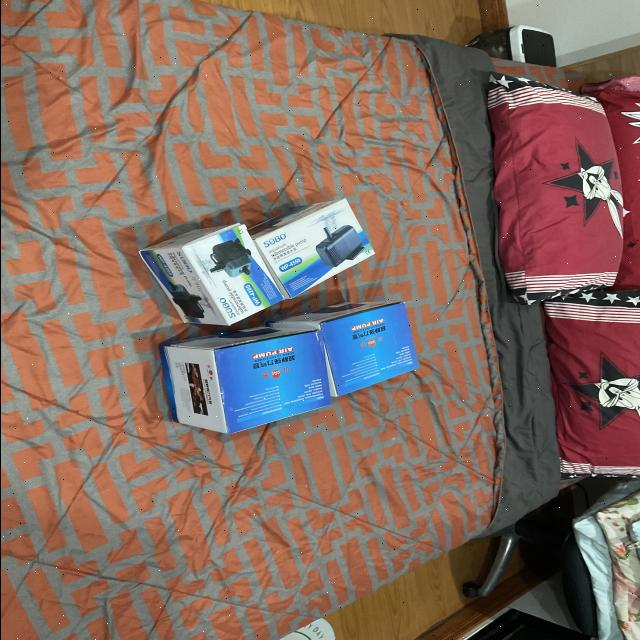SOBO_WP_4200: (124, 218, 288, 330), (255, 189, 383, 305)
YAMANO_LPP_20: (134, 314, 332, 434), (259, 292, 422, 399)
